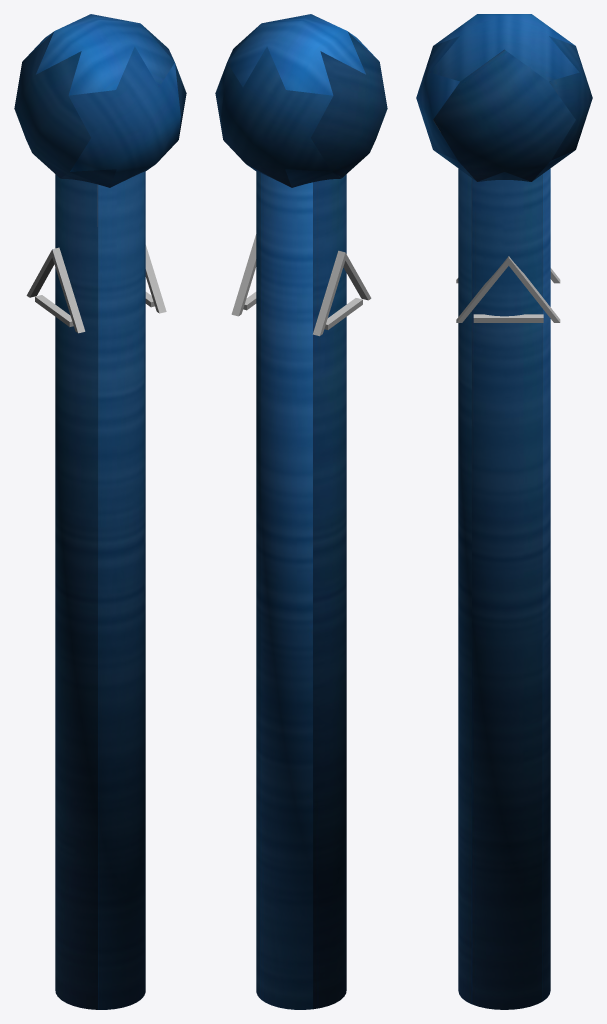
3 renders of one model, left to right at view 1: azimuth 30°, elevation 25°; view 2: azimuth 150°, elevation 25°; view 3: azimuth 270°, elevation 25°, orthographic.
Parts seen in each view (by area): view 1: SketchUp_001; view 2: SketchUp_001; view 3: SketchUp_001.
Boxes of the visible parts, x1,y1,x2,y2 form: SketchUp_001: [14, 14, 186, 1009]; SketchUp_001: [215, 14, 387, 1009]; SketchUp_001: [416, 14, 592, 1009].
Size of the model in its own units: 0.0397 by 0.0418 by 0.2537.
1 material, 1 textured.
